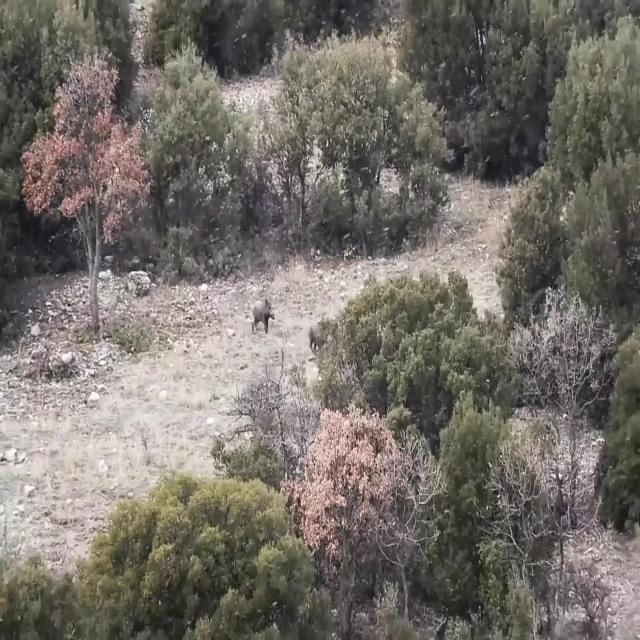pig: (242, 292, 276, 352)
